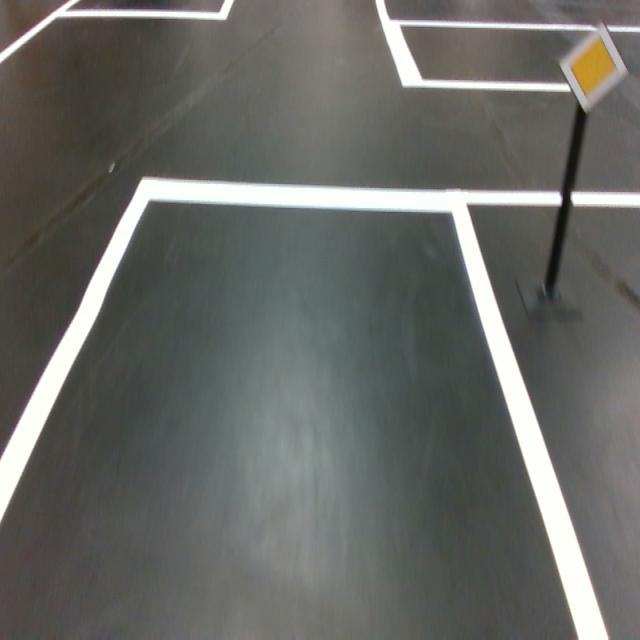priority-sign: (558, 20, 630, 116)
